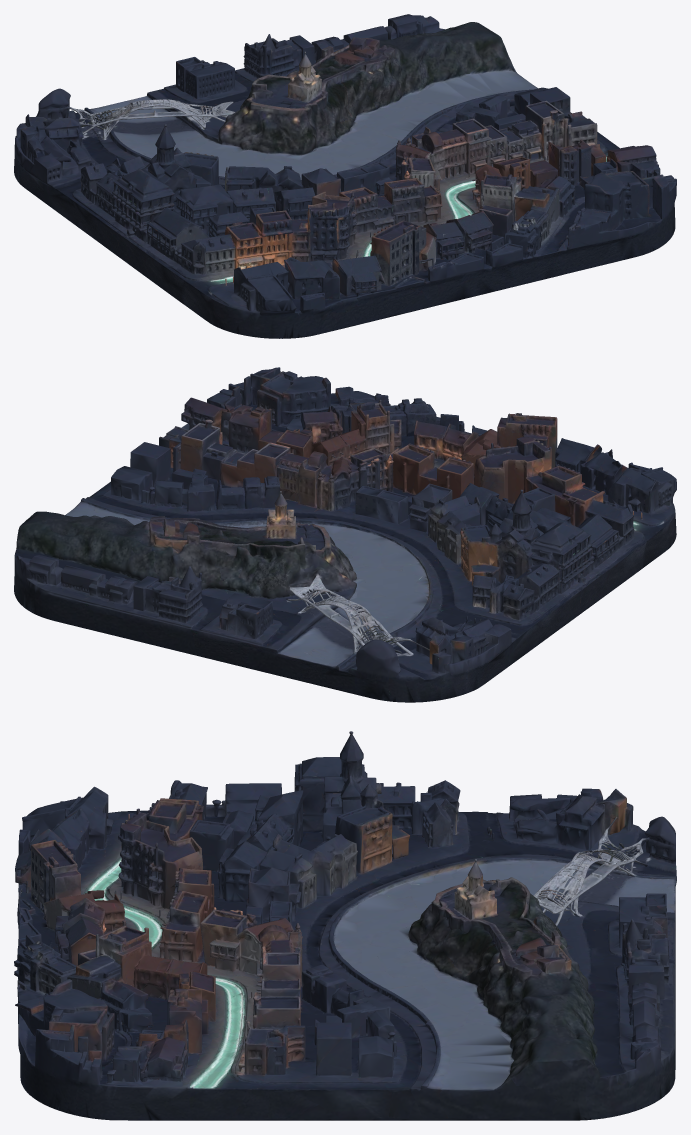
The model's file is city.glb.
3 renders of one model, top to bottom at view 1: azimuth 30°, elevation 25°; view 2: azimuth 150°, elevation 25°; view 3: azimuth 270°, elevation 25°, orthographic. The views are drawn at different scales.
Size of the model in its own units: 1.9 by 0.4588 by 1.9.
Materials: 1 (1 with a texture image).
